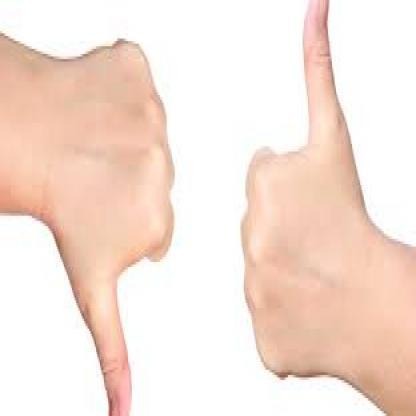thumb_down: (63, 36, 176, 416)
thumb_up: (230, 0, 370, 390)
